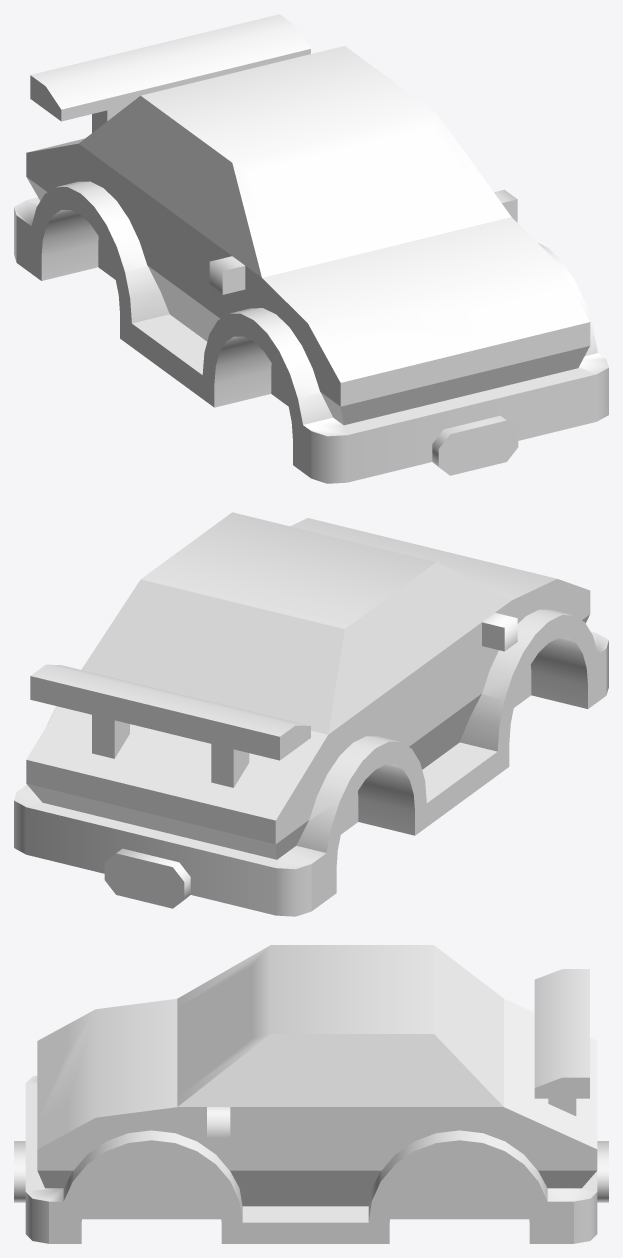
Rendered from classic-vehicle.glb.
3 renders of one model, top to bottom at view 1: azimuth 30°, elevation 25°; view 2: azimuth 150°, elevation 25°; view 3: azimuth 270°, elevation 25°, orthographic. The views are drawn at different scales.
Visible parts, largest first — view 1: classic-vehicle; view 2: classic-vehicle; view 3: classic-vehicle.
Part boxes in pixels (x1,y1,x2,y2): classic-vehicle: (14,14,608,483); classic-vehicle: (14,512,608,916); classic-vehicle: (14,945,608,1243).
Bounding box in the file's own units: 1.3 × 0.95 × 2.55.
Materials: 1 (1 with a texture image).
